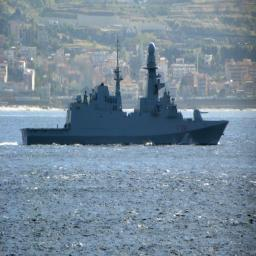Fragata: (21, 34, 231, 150)
